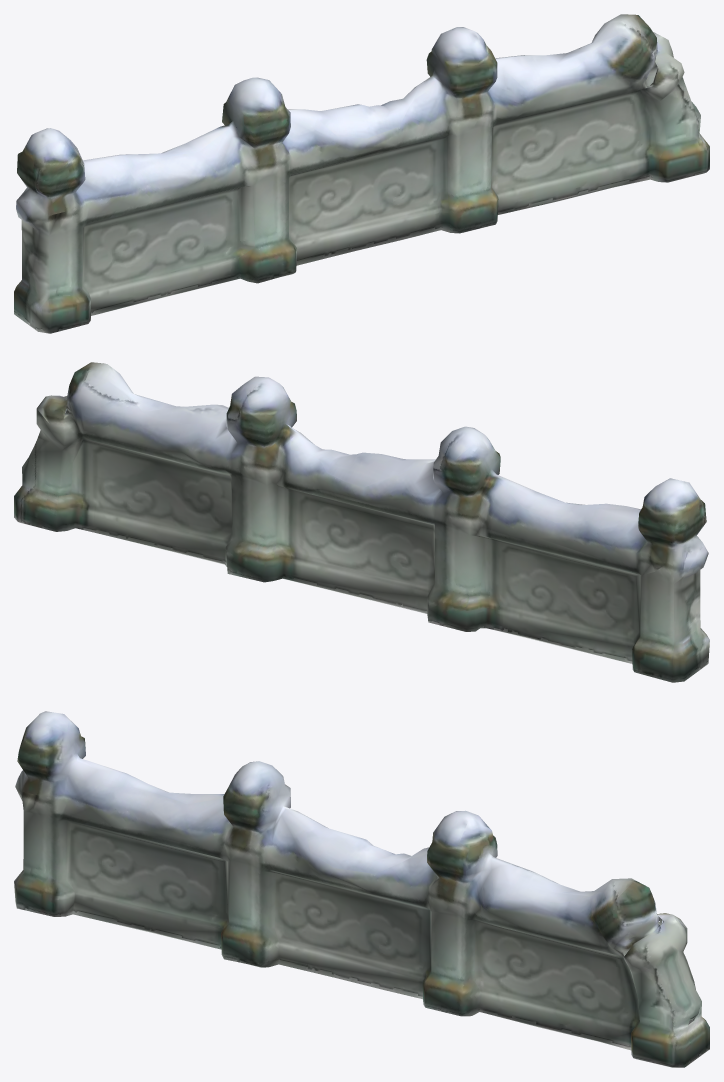
Rendered from SM_Tripo_FrostBarricade.glb.
3 renders of one model, top to bottom at view 1: azimuth 30°, elevation 25°; view 2: azimuth 150°, elevation 25°; view 3: azimuth 330°, elevation 25°, orthographic.
Parts seen in each view (by area): view 1: SM_Tripo_FrostBarricade_LOD0; view 2: SM_Tripo_FrostBarricade_LOD0; view 3: SM_Tripo_FrostBarricade_LOD0.
Part boxes in pixels (x1,y1,x2,y2): SM_Tripo_FrostBarricade_LOD0: [14, 14, 709, 333]; SM_Tripo_FrostBarricade_LOD0: [14, 362, 709, 682]; SM_Tripo_FrostBarricade_LOD0: [14, 711, 709, 1067].
Size of the model in its own units: 4.44 by 1.18 by 0.4131.
Materials: 1 (1 with a texture image).
